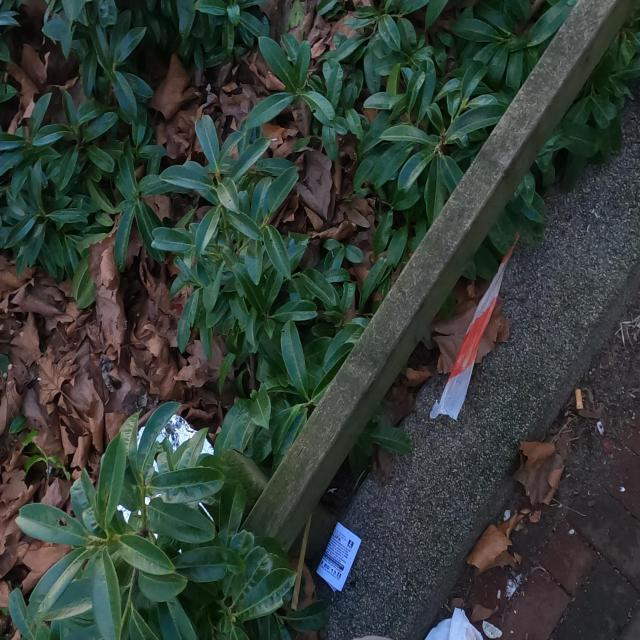Paper: (314, 518, 362, 596)
